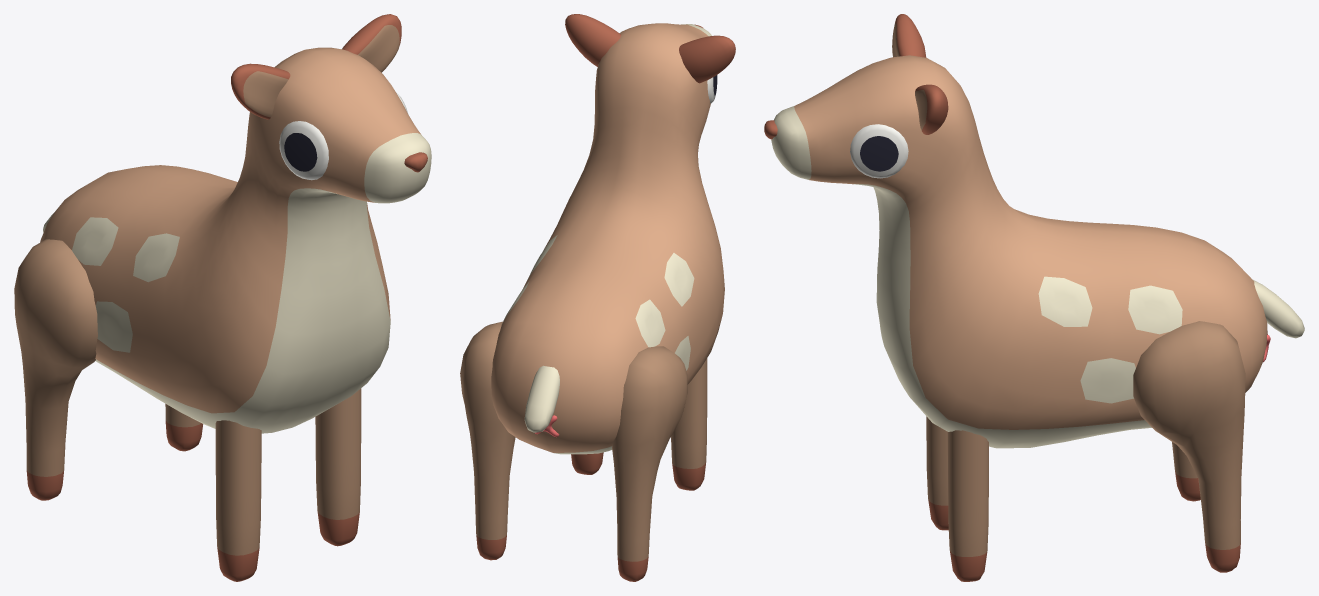
Rendered from Deer.glb.
3 views of the same model, side by side, from view 1: azimuth 30°, elevation 25°; view 2: azimuth 150°, elevation 25°; view 3: azimuth 270°, elevation 25° (orthographic). The views are drawn at different scales.
Visible parts, largest first — view 1: Deer; view 2: Deer; view 3: Deer.
Part boxes in pixels (bbox=[...]): Deer: bbox=[14, 14, 431, 581]; Deer: bbox=[460, 14, 735, 581]; Deer: bbox=[764, 14, 1304, 581].
Bounding box in the file's own units: 1.36 × 2.73 × 2.65.
Materials: 1 (1 with a texture image).
